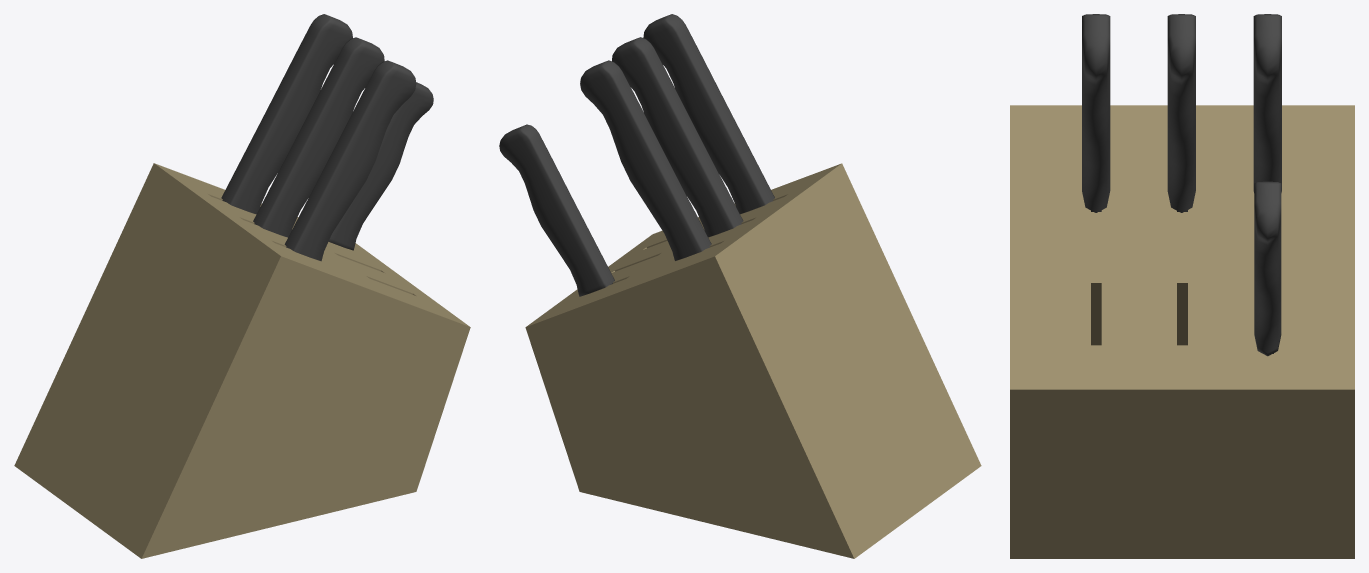
File: knife_holder.fbx
The picture shows the model from 3 angles, left to right: view 1: azimuth 30°, elevation 25°; view 2: azimuth 150°, elevation 25°; view 3: azimuth 270°, elevation 25°; orthographic projection. The views are drawn at different scales.
Visible parts, largest first — view 1: pCube6; view 2: pCube6; view 3: pCube6.
Boxes of the visible parts, box(x1,y1,x2,y2) form: pCube6: box(14, 14, 470, 558); pCube6: box(499, 14, 981, 558); pCube6: box(1010, 14, 1354, 558).
Size of the model in its own units: 1.76 by 1.75 by 1.
